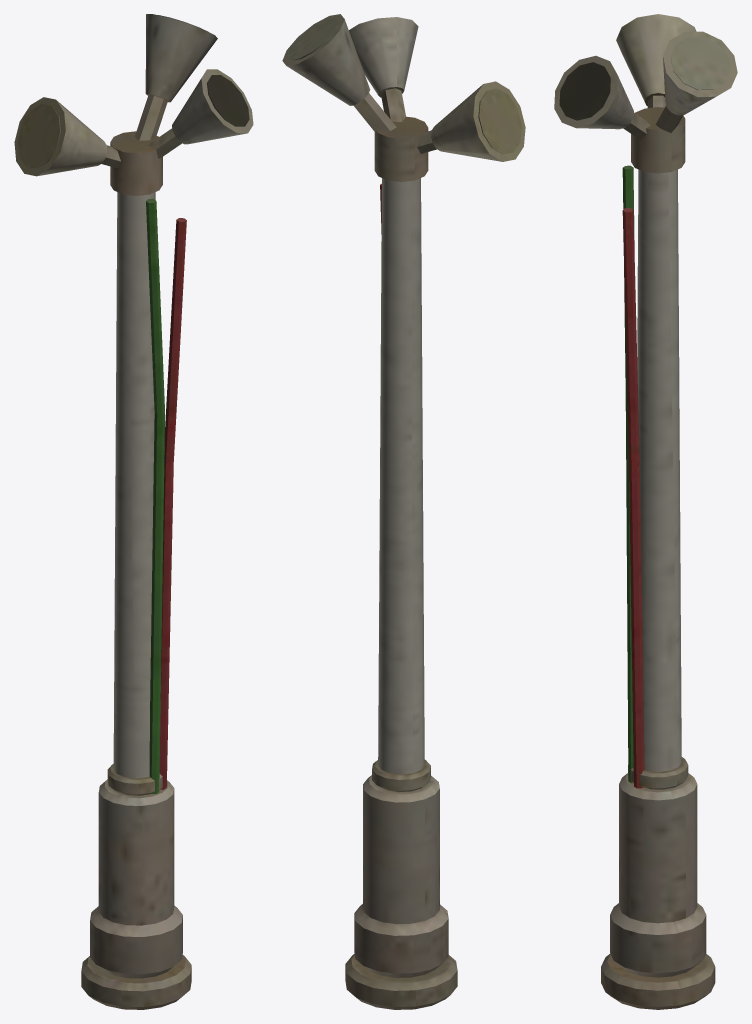
Rendered from programmable-speaker.glb.
3 views of the same model, side by side, from view 1: azimuth 30°, elevation 25°; view 2: azimuth 150°, elevation 25°; view 3: azimuth 270°, elevation 25° (orthographic). The views are drawn at different scales.
Parts seen in each view (by area): view 1: body; view 2: body; view 3: body.
Part boxes in pixels (<box>): body: <box>14,14,253,1009</box>; body: <box>282,14,525,1009</box>; body: <box>554,14,737,1009</box>.
Bounding box in the file's own units: 0.8129 × 3.59 × 0.6097.
Materials: 1 (1 with a texture image).
